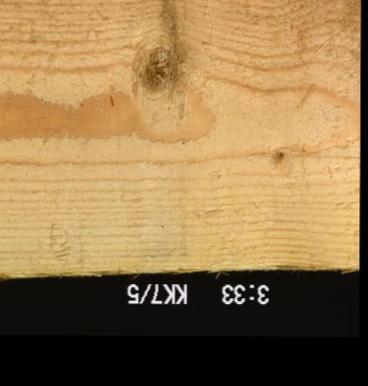small_knot: (266, 145, 288, 171)
